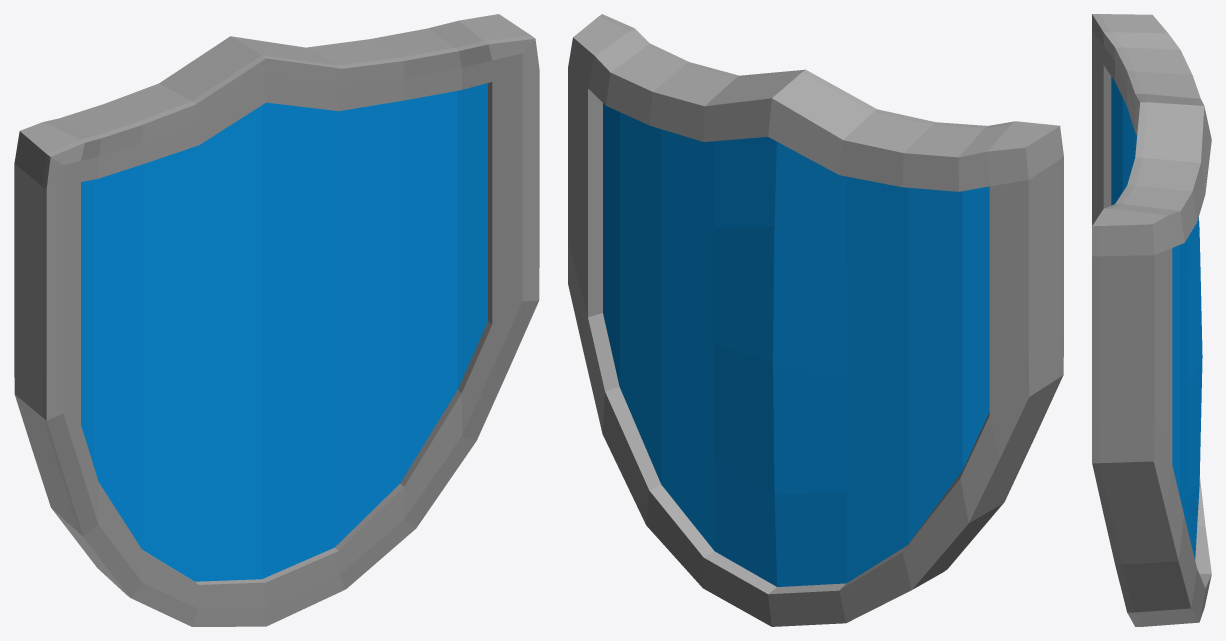
Rendered from Shield.fbx.
The picture shows the model from 3 angles, left to right: view 1: azimuth 30°, elevation 25°; view 2: azimuth 150°, elevation 25°; view 3: azimuth 270°, elevation 25°; orthographic projection. The views are drawn at different scales.
Visible parts, largest first — view 1: Cube; view 2: Cube; view 3: Cube.
Part boxes in pixels (x1,y1,x2,y2): Cube: (14,14,539,626); Cube: (568,14,1063,626); Cube: (1092,14,1211,626).
Size of the model in its own units: 76.13 by 83.88 by 17.86.
